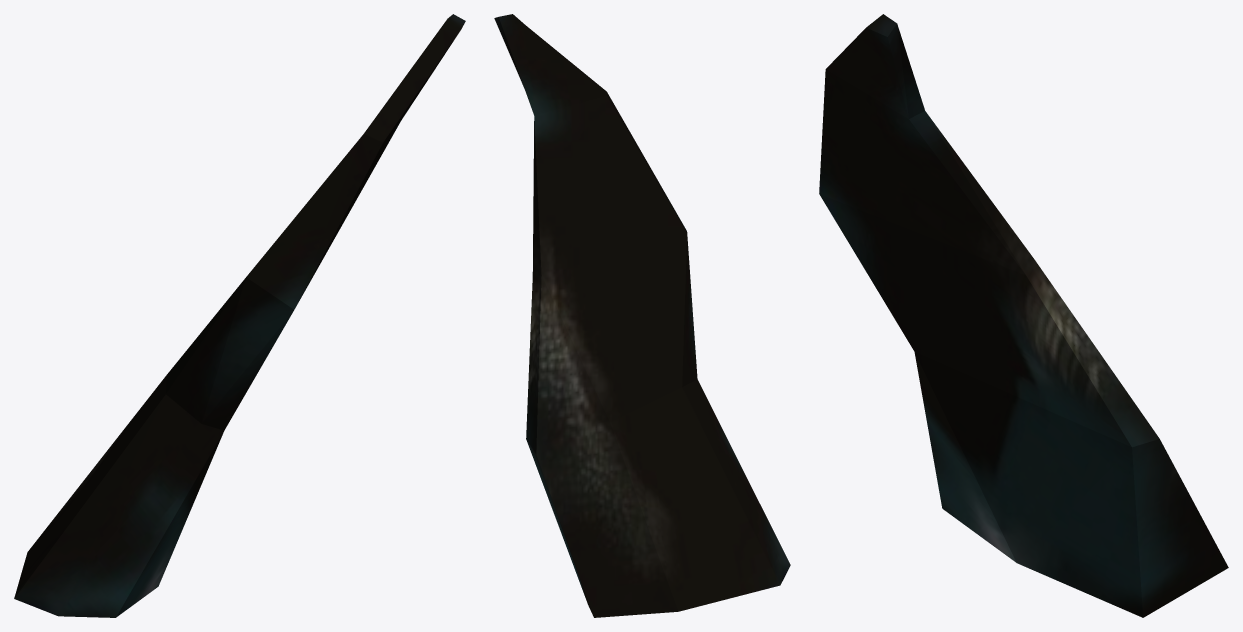
Rendered from ala.obj.
3 renders of one model, left to right at view 1: azimuth 30°, elevation 25°; view 2: azimuth 150°, elevation 25°; view 3: azimuth 270°, elevation 25°, orthographic. The views are drawn at different scales.
Visible parts, largest first — view 1: pasted__Ala_izq_polySurface4 group; view 2: pasted__Ala_izq_polySurface4 group; view 3: pasted__Ala_izq_polySurface4 group.
Boxes of the visible parts, x1,y1,x2,y2 form: pasted__Ala_izq_polySurface4 group: [14, 14, 465, 617]; pasted__Ala_izq_polySurface4 group: [494, 14, 790, 617]; pasted__Ala_izq_polySurface4 group: [819, 14, 1228, 617].
Bounding box in the file's own units: 0.4377 × 0.606 × 0.3117.
Materials: 1 (1 with a texture image).
